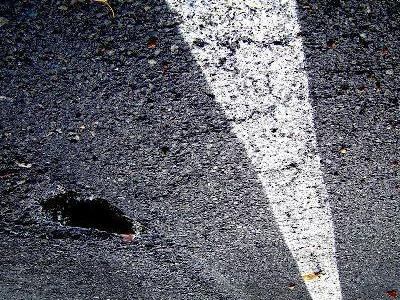pothole: (22, 173, 144, 246)
